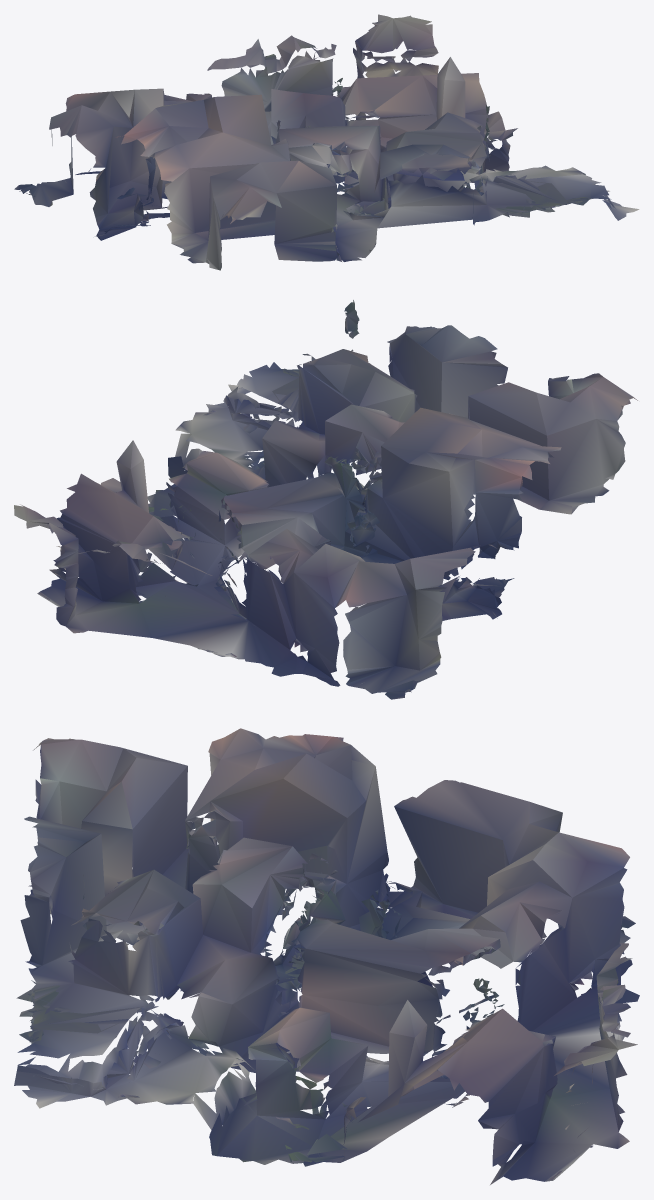
The picture shows the model from 3 angles, top to bottom: view 1: azimuth 30°, elevation 25°; view 2: azimuth 150°, elevation 25°; view 3: azimuth 270°, elevation 25°; orthographic projection. The views are drawn at different scales.
Size of the model in its own units: 108 by 46.69 by 108.
